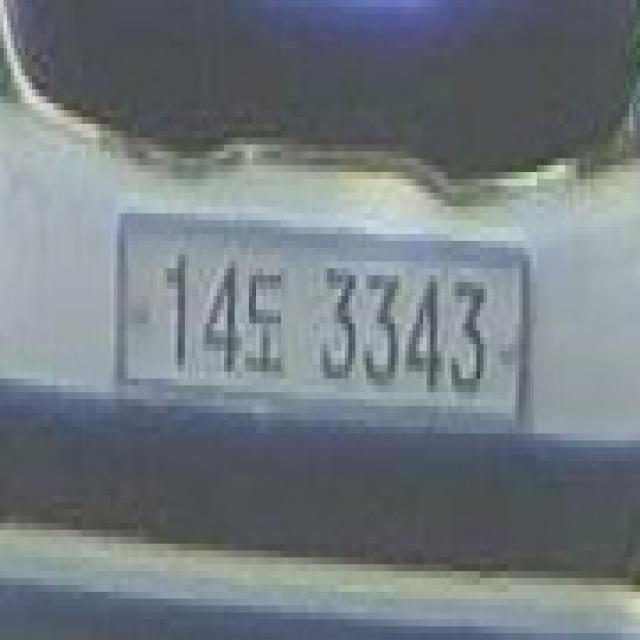1: (160, 248, 192, 378)
3: (363, 255, 405, 399), (444, 275, 490, 399), (320, 255, 359, 399)
4: (199, 255, 245, 392), (409, 275, 448, 406)
do: (245, 262, 295, 386)
license_plate: (114, 207, 537, 440)
